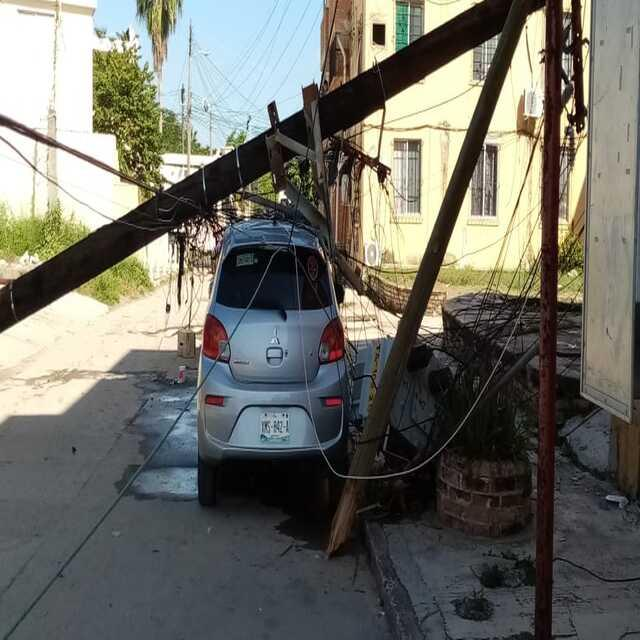Inclined Pole: (0, 0, 544, 343), (325, 0, 532, 558)
